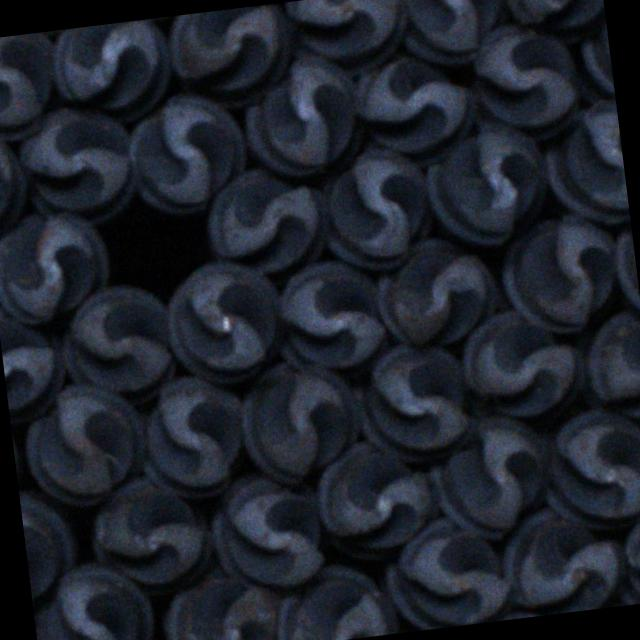tool_b: (422, 406, 560, 546), (417, 114, 555, 252), (239, 46, 369, 185), (347, 334, 479, 470), (311, 136, 435, 278), (494, 205, 626, 338), (120, 89, 252, 222), (457, 304, 592, 432), (235, 356, 362, 492), (18, 376, 150, 506), (161, 255, 289, 388), (310, 435, 438, 566), (371, 230, 506, 354), (351, 45, 482, 172), (54, 281, 182, 410), (10, 100, 140, 227), (378, 511, 512, 634), (200, 159, 331, 283), (464, 14, 584, 149), (134, 371, 256, 503), (84, 471, 213, 595), (205, 462, 328, 592), (494, 500, 626, 620), (164, 2, 296, 116), (269, 253, 389, 373), (0, 205, 116, 329), (532, 402, 640, 535), (49, 17, 174, 126), (539, 98, 630, 228), (33, 557, 158, 640), (281, 0, 411, 77), (159, 561, 283, 640), (268, 561, 391, 640), (0, 294, 65, 422), (394, 0, 512, 68), (0, 31, 61, 145), (581, 309, 640, 423), (499, 0, 608, 51)
void: (96, 189, 218, 305)
